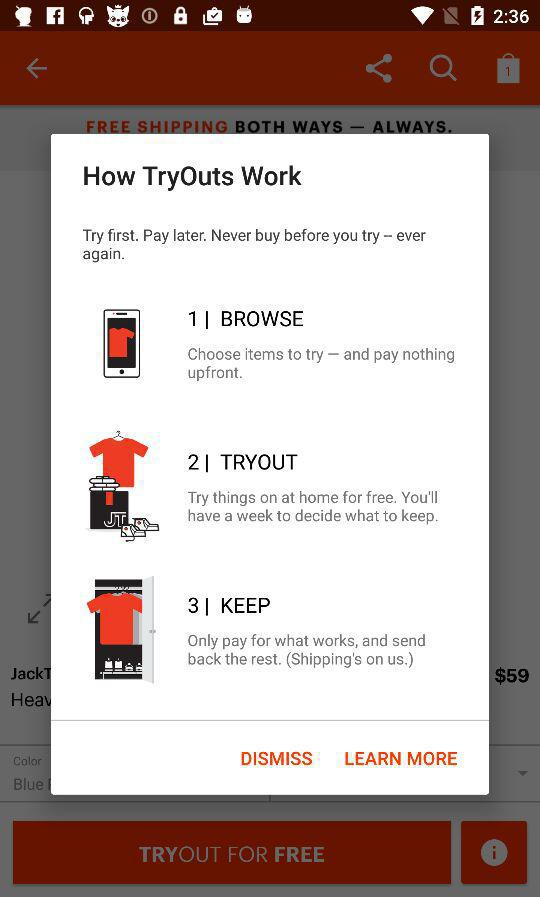Icon: (460, 821, 528, 885), (365, 54, 393, 84), (429, 55, 457, 83), (496, 53, 520, 85), (27, 60, 48, 80)
Image: (89, 431, 160, 543), (86, 576, 157, 684), (104, 309, 141, 379)
Modal: (52, 135, 490, 796)
Text: (84, 229, 426, 264), (188, 348, 455, 382), (189, 491, 439, 525), (189, 634, 426, 668), (84, 159, 305, 194), (189, 311, 304, 330), (188, 454, 299, 473), (189, 597, 271, 617), (345, 752, 458, 766), (242, 752, 313, 766)
TextButton: (13, 821, 451, 885)
UpperTaskBar: (1, 1, 540, 33)
